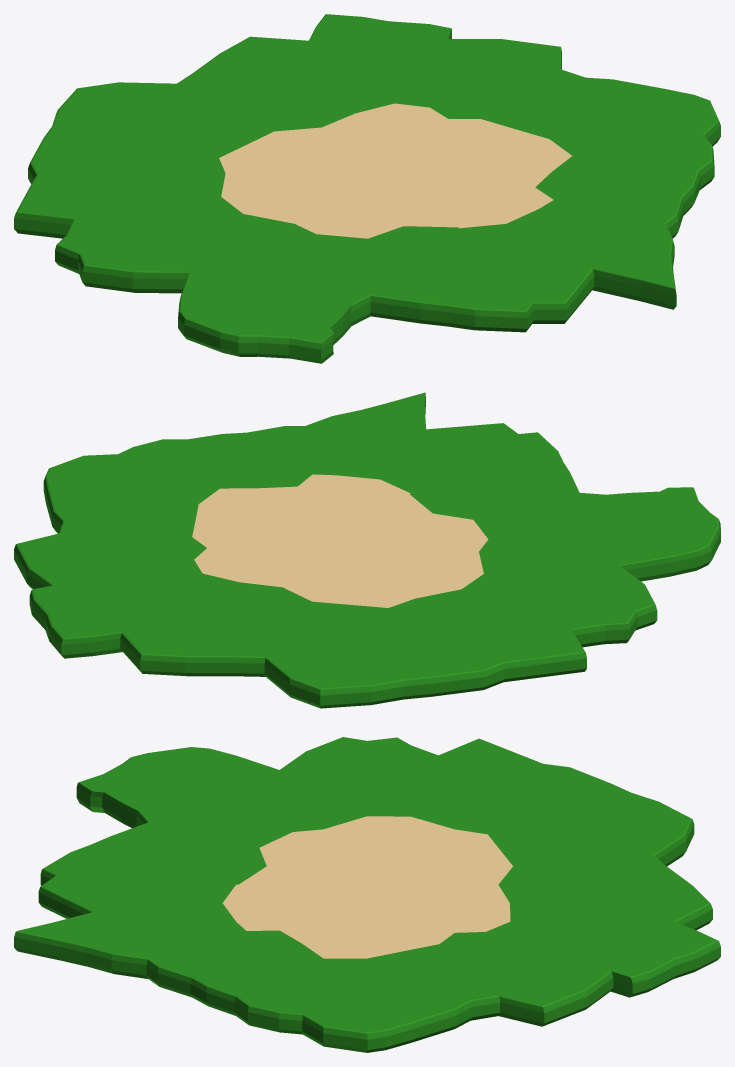
The model's file is island.fbx.
3 views of the same model, one above another, from view 1: azimuth 30°, elevation 25°; view 2: azimuth 150°, elevation 25°; view 3: azimuth 270°, elevation 25° (orthographic). The views are drawn at different scales.
Parts seen in each view (by area): view 1: map, sand; view 2: map, sand; view 3: map, sand.
Part boxes in pixels (x1=…): map: x1=14, y1=14, x2=720, y2=363; sand: x1=219, y1=103, x2=571, y2=238; map: x1=14, y1=392, x2=720, y2=708; sand: x1=192, y1=474, x2=488, y2=607; map: x1=14, y1=737, x2=720, y2=1052; sand: x1=222, y1=816, x2=512, y2=958.
Size of the model in its own units: 15500 by 500 by 15523.
